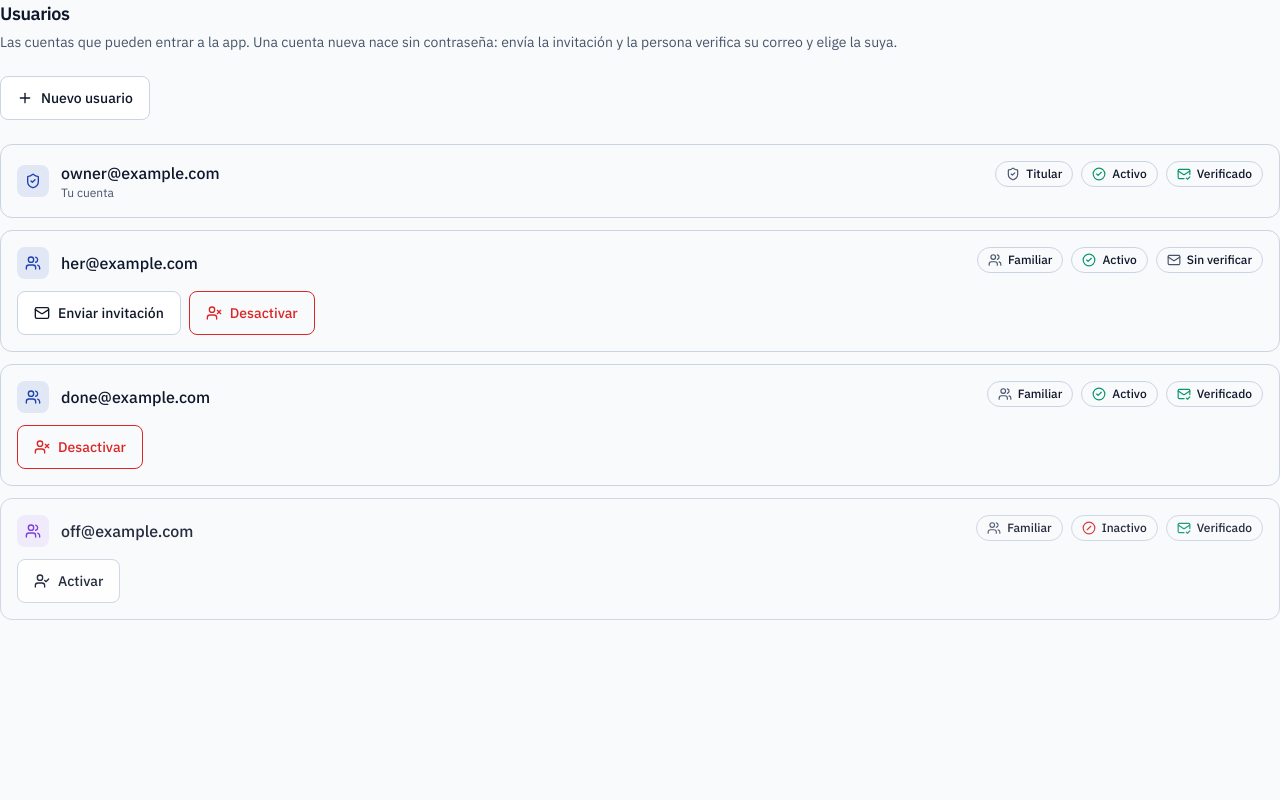
Test: UsersSection › asks for confirmation before inviting, then offers Reenviar
Click the button "Enviar invitación": (99, 313) [17,291,181,335]
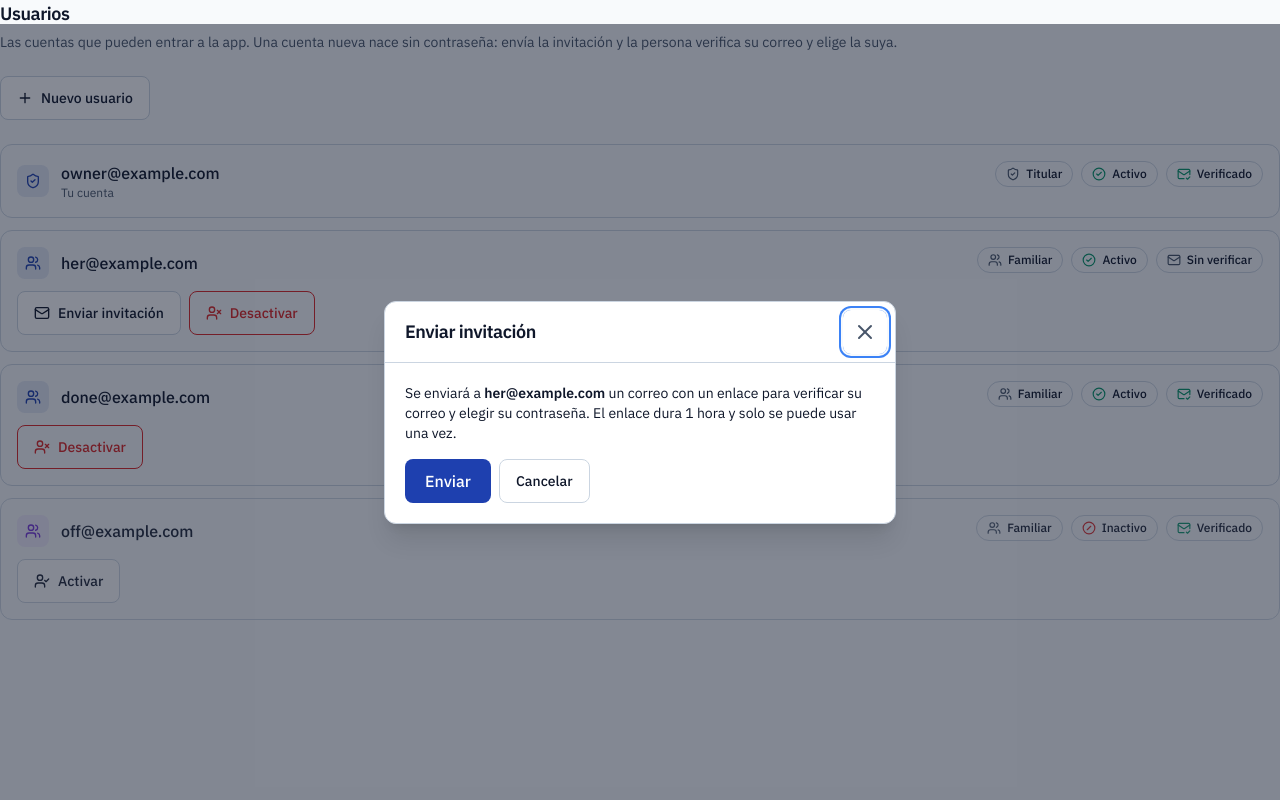
Result: the dialog "Enviar invitación" shows "1 hora" at [405,384,862,442]
Click the button "Enviar": (448, 480) [405,458,491,502]
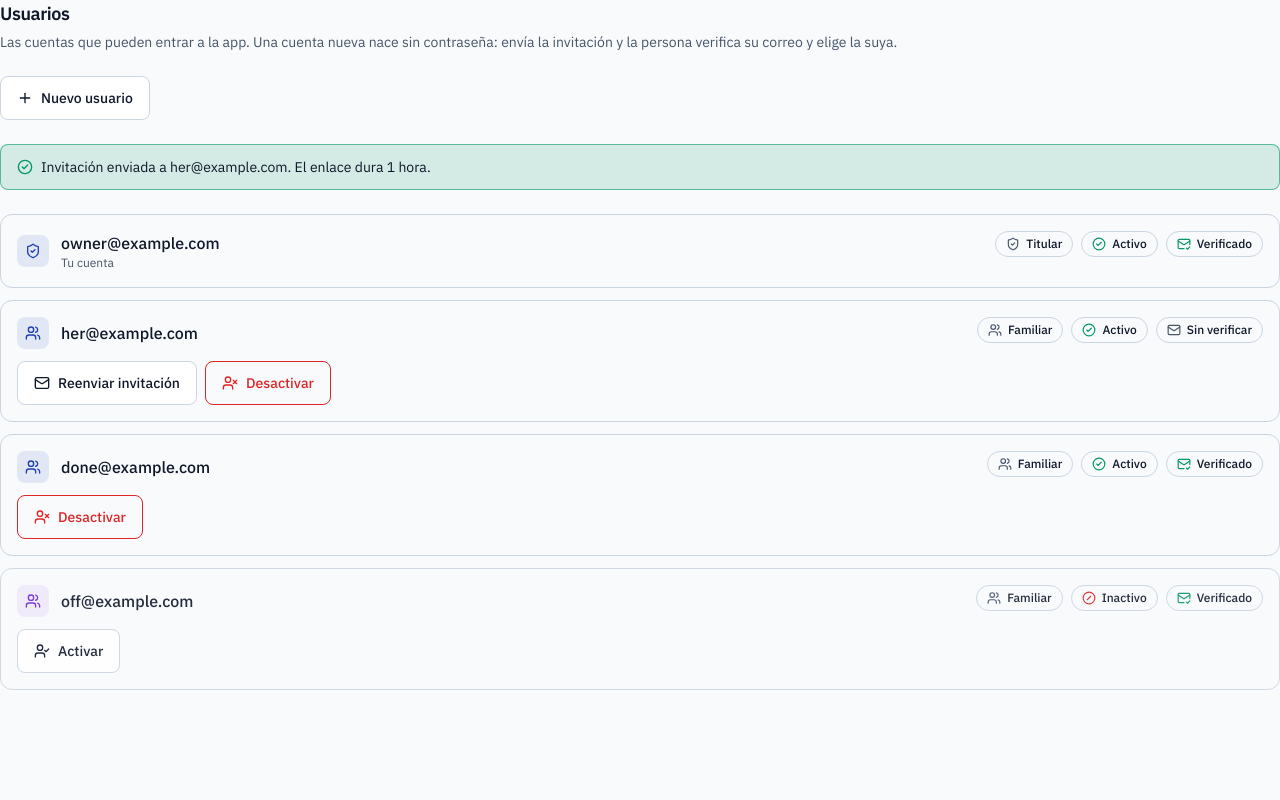
Result: the message shows "Invitación enviada a her@example.com" at [41,158,431,176]
Result: the button "Reenviar invitación" is shown at [17,361,197,405]
